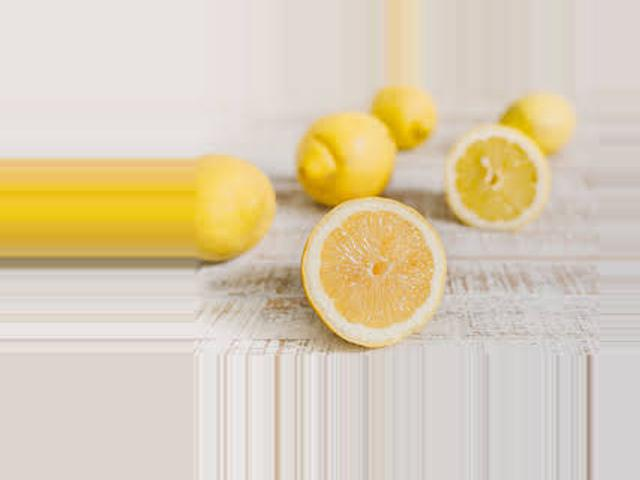lemon: (193, 149, 283, 269)
